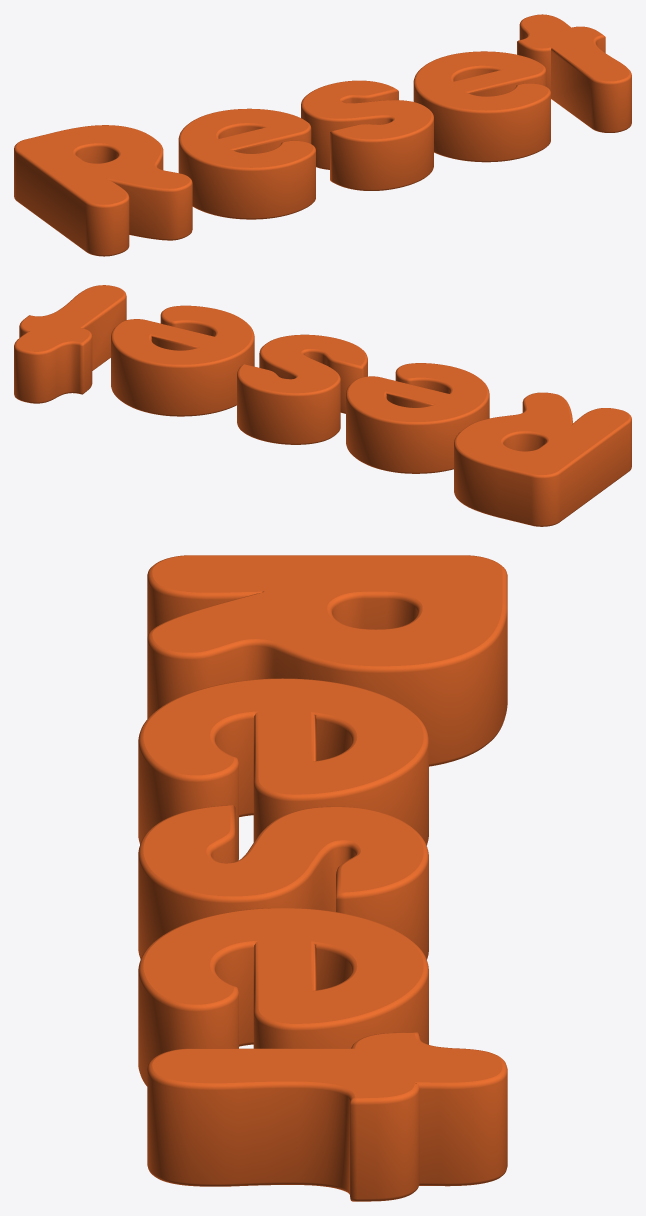
The model's file is ResetTextModel.8c545cc4.glb.
3 renders of one model, top to bottom at view 1: azimuth 30°, elevation 25°; view 2: azimuth 150°, elevation 25°; view 3: azimuth 270°, elevation 25°, orthographic. The views are drawn at different scales.
Parts seen in each view (by area): view 1: ResetTextModel; view 2: ResetTextModel; view 3: ResetTextModel.
Boxes of the visible parts, x1,y1,x2,y2 form: ResetTextModel: [14, 14, 631, 256]; ResetTextModel: [14, 285, 631, 526]; ResetTextModel: [138, 555, 507, 1201].
Size of the model in its own units: 2.5 by 0.22 by 0.7148.
